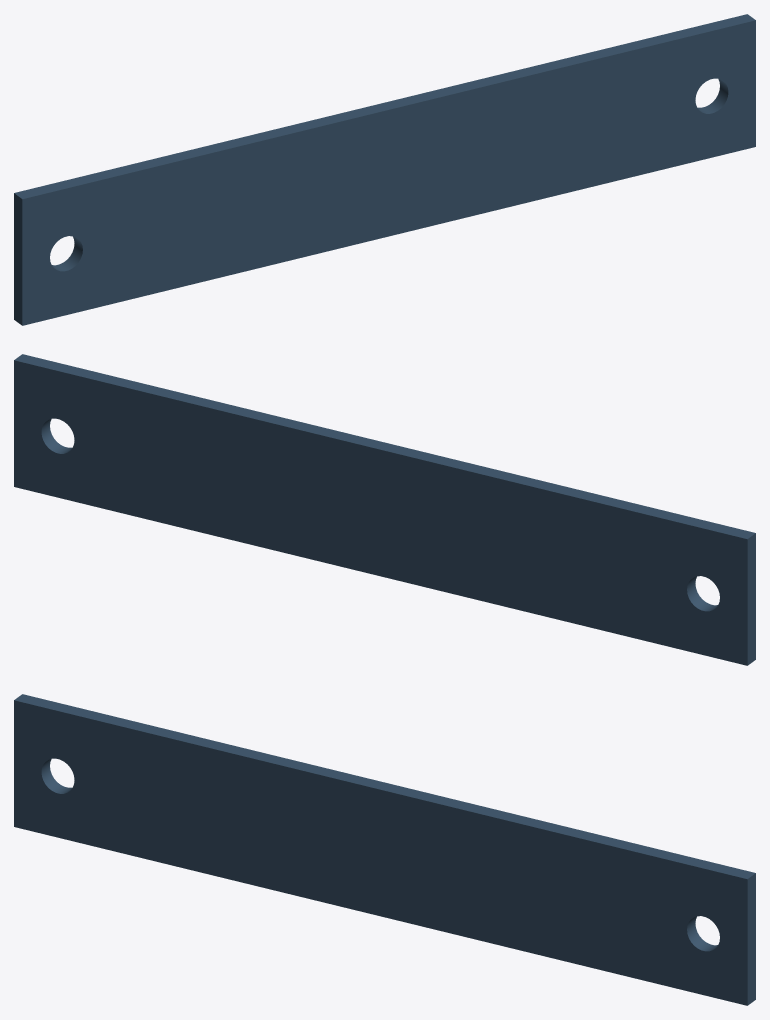
File: milling-z-coupling-guard.glb
3 renders of one model, top to bottom at view 1: azimuth 30°, elevation 25°; view 2: azimuth 150°, elevation 25°; view 3: azimuth 330°, elevation 25°, orthographic.
Size of the model in its own units: 0.1 by 0.0165 by 0.002.
